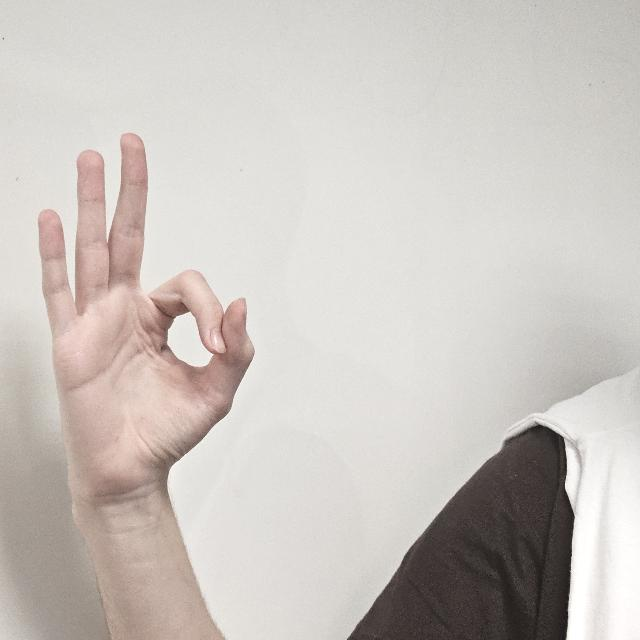Bolinha: (37, 128, 257, 520)
